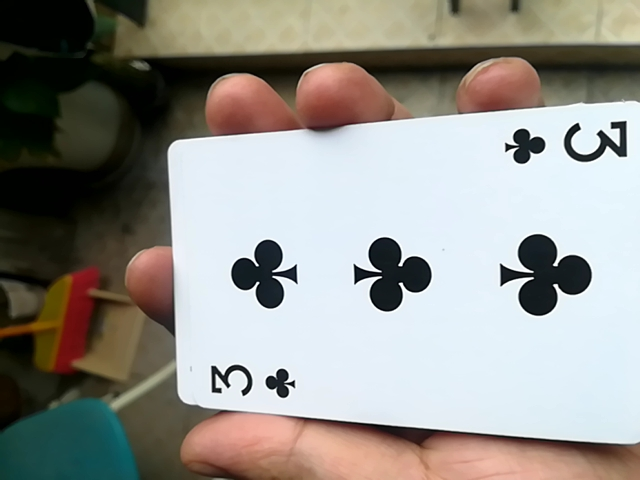mh 3: (153, 106, 633, 449)
